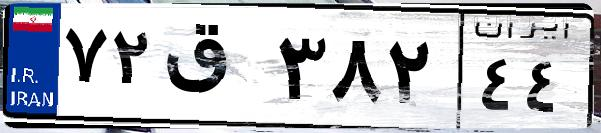2: (385, 28, 445, 110), (110, 28, 158, 98)
3: (270, 28, 330, 110)
4: (475, 38, 525, 113), (525, 38, 570, 115)
7: (57, 26, 110, 100)
8: (330, 28, 385, 110)
ق: (158, 20, 270, 120)
